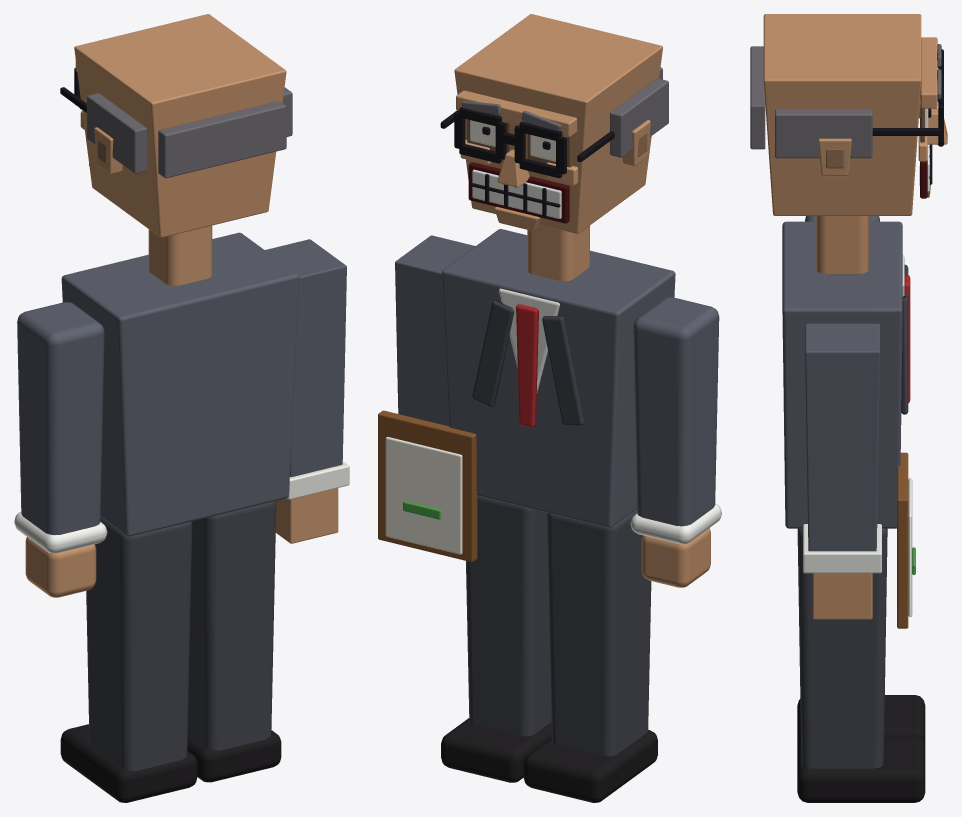
Rendered from manager.glb.
3 views of the same model, side by side, from view 1: azimuth 30°, elevation 25°; view 2: azimuth 150°, elevation 25°; view 3: azimuth 270°, elevation 25° (orthographic). The views are drawn at different scales.
Visible parts, largest first — view 1: Torso, Head, LegL, ArmL, LegR, ArmR, NeckMesh; view 2: Torso, Head, LegL, LegR, ArmL, ArmR, NeckMesh; view 3: Head, ArmR, LegR, Torso, NeckMesh, LegL.
Part boxes in pixels (x1,y1,x2,y2): Torso: (61,232,299,536); Head: (60,14,292,237); LegL: (60,517,197,802); ArmL: (14,302,107,597); LegR: (187,501,281,782); ArmR: (265,239,349,543); NeckMesh: (148,225,212,286); Torso: (442,229,675,527); Head: (440,14,668,233); LegL: (523,508,657,802); LegR: (441,495,551,782); ArmL: (630,297,721,587); ArmR: (378,235,477,562); NeckMesh: (527,225,589,281); Head: (750,14,947,215); ArmR: (803,323,915,628); LegR: (797,528,925,802); Torso: (782,221,910,528); NeckMesh: (816,216,868,274); LegL: (797,695,925,746).
Bounding box in the file's own units: 0.935 × 2.11 × 0.5241.
